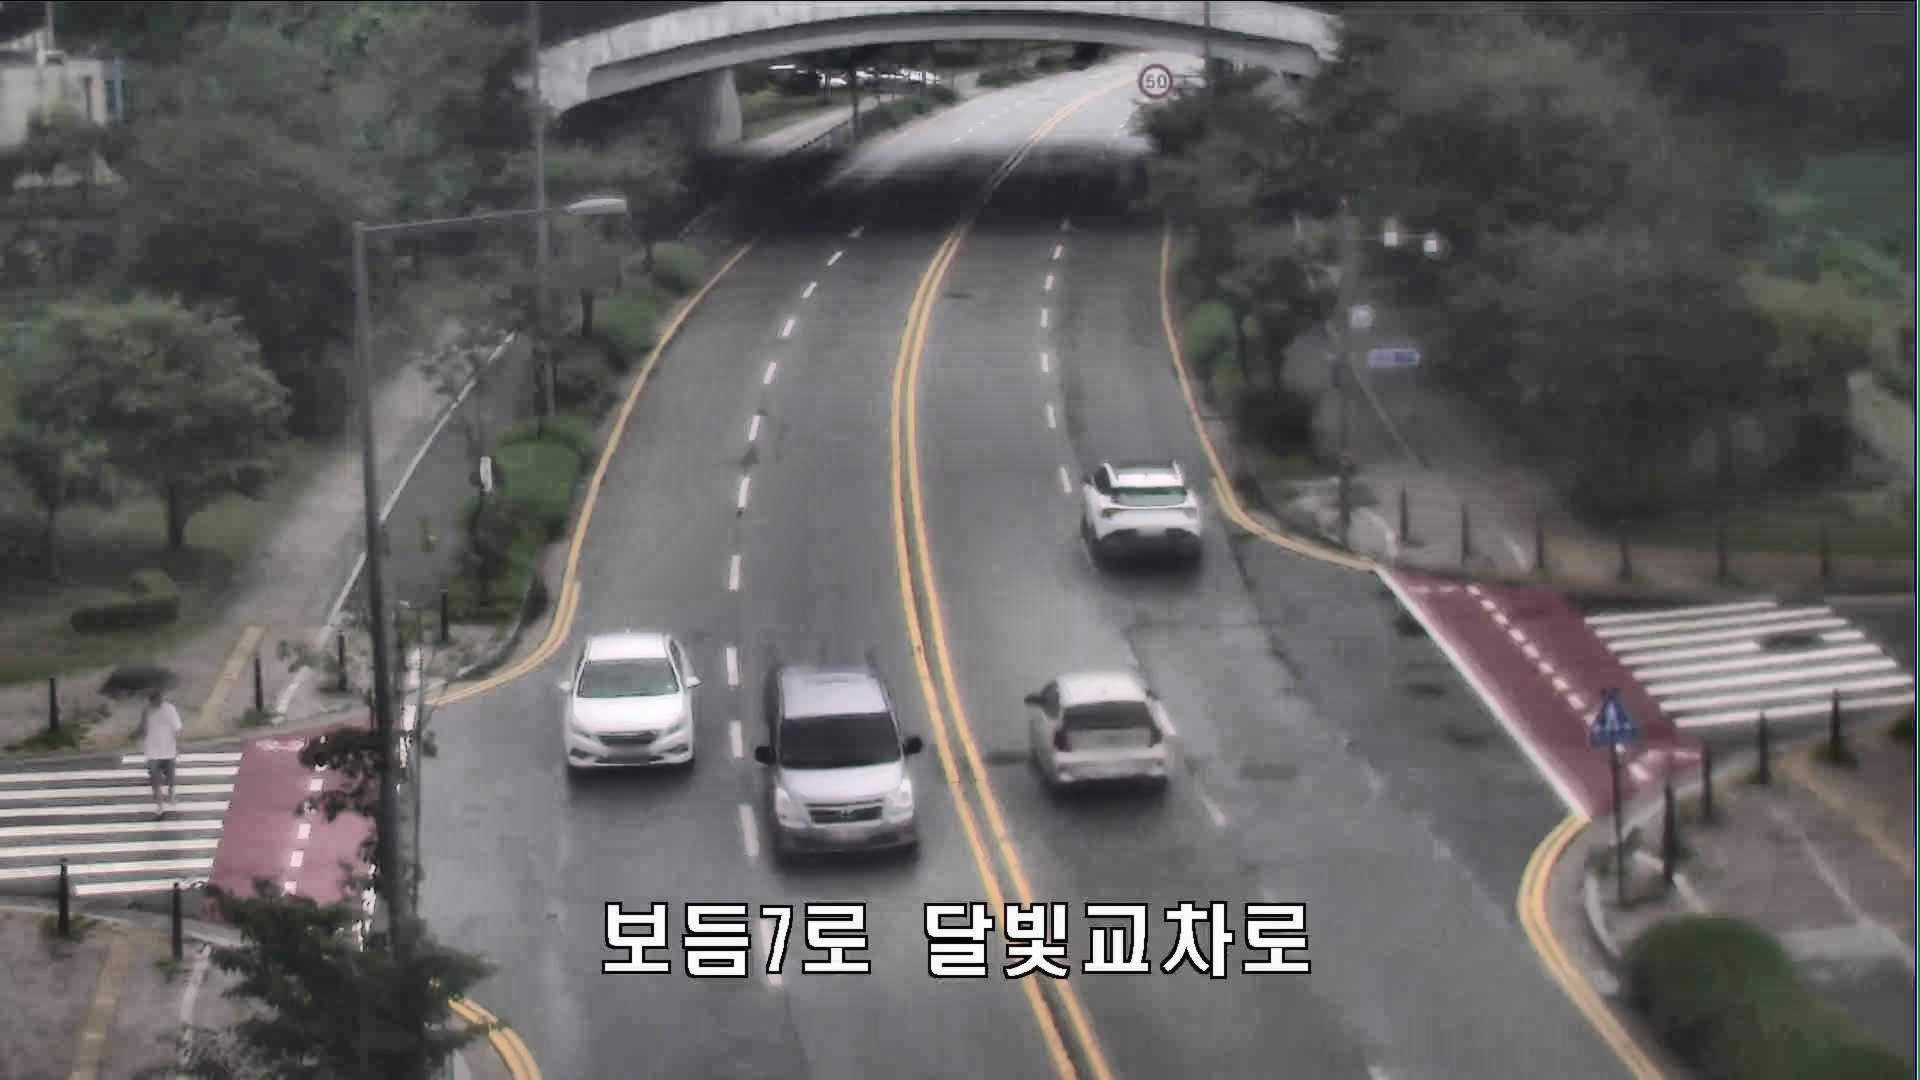um_crosswalk: (103, 657, 193, 825)
